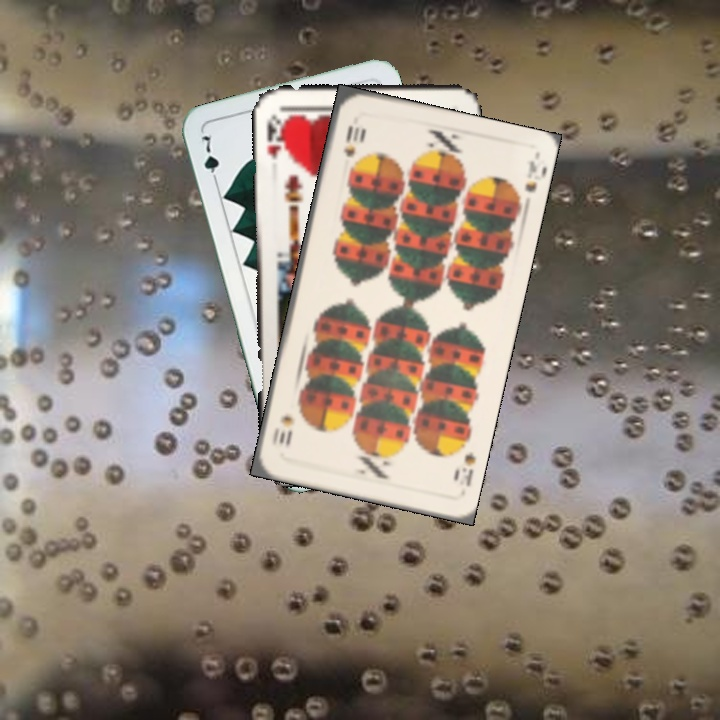G7: (197, 130, 222, 188)
HK: (262, 111, 287, 162)
S10: (458, 447, 479, 489), (340, 121, 362, 160)
